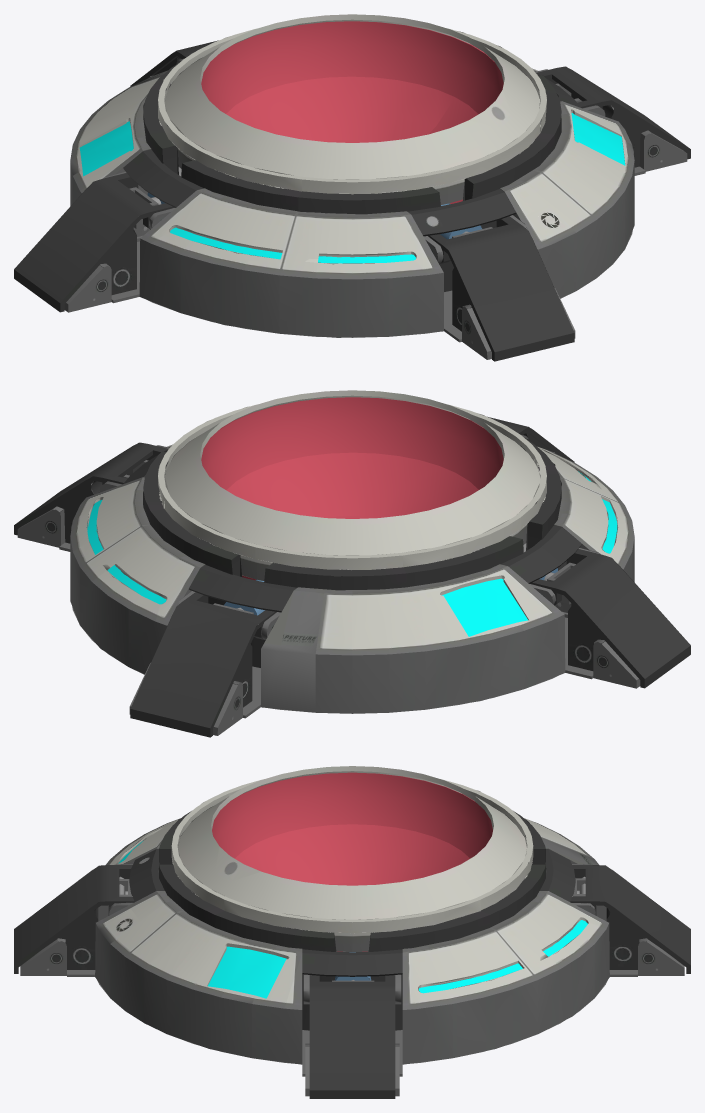
The model's file is button_sphere.glb.
The picture shows the model from 3 angles, top to bottom: view 1: azimuth 30°, elevation 25°; view 2: azimuth 150°, elevation 25°; view 3: azimuth 270°, elevation 25°; orthographic projection. The views are drawn at different scales.
Parts seen in each view (by area): view 1: button_globe; view 2: button_globe; view 3: button_globe.
Boxes of the visible parts, box(x1,y1,x2,y2) form: button_globe: box(14, 14, 690, 361); button_globe: box(14, 390, 690, 737); button_globe: box(14, 766, 690, 1098).
Bounding box in the file's own units: 1.65 × 0.3497 × 1.65.
1 material, 1 textured.
